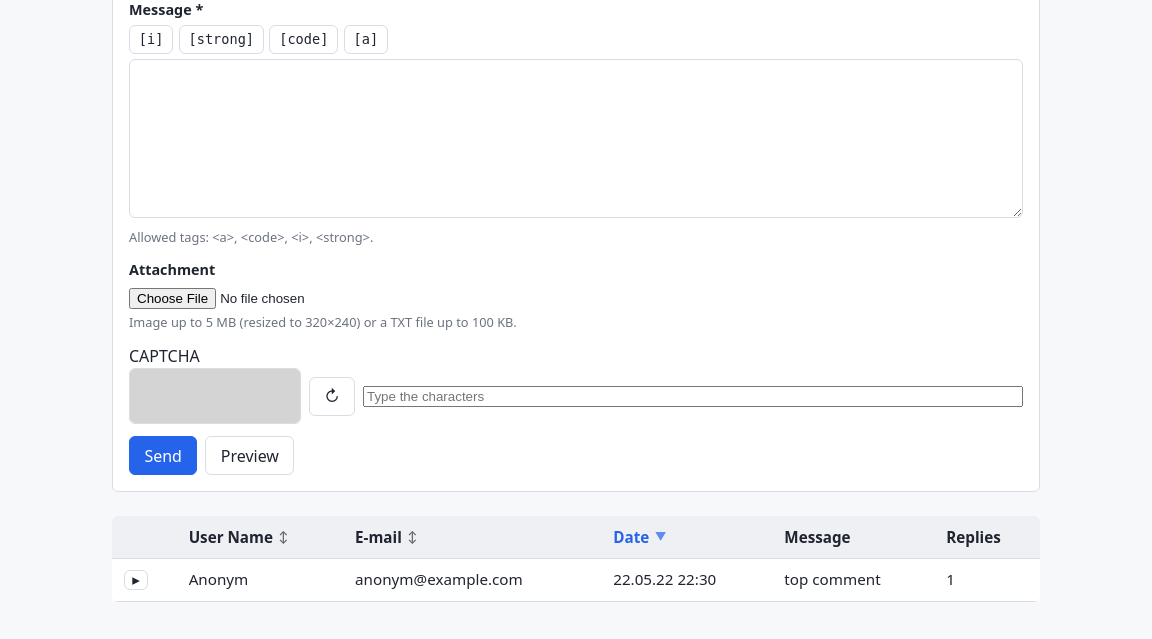
Test: App › switches the form into reply mode
(page scrolled)
What coordinates should you click on to do the following:
click the button with class "toggle"
I would click on:
 (136, 580)
Its box is [124, 570, 148, 590].
(page scrolled)
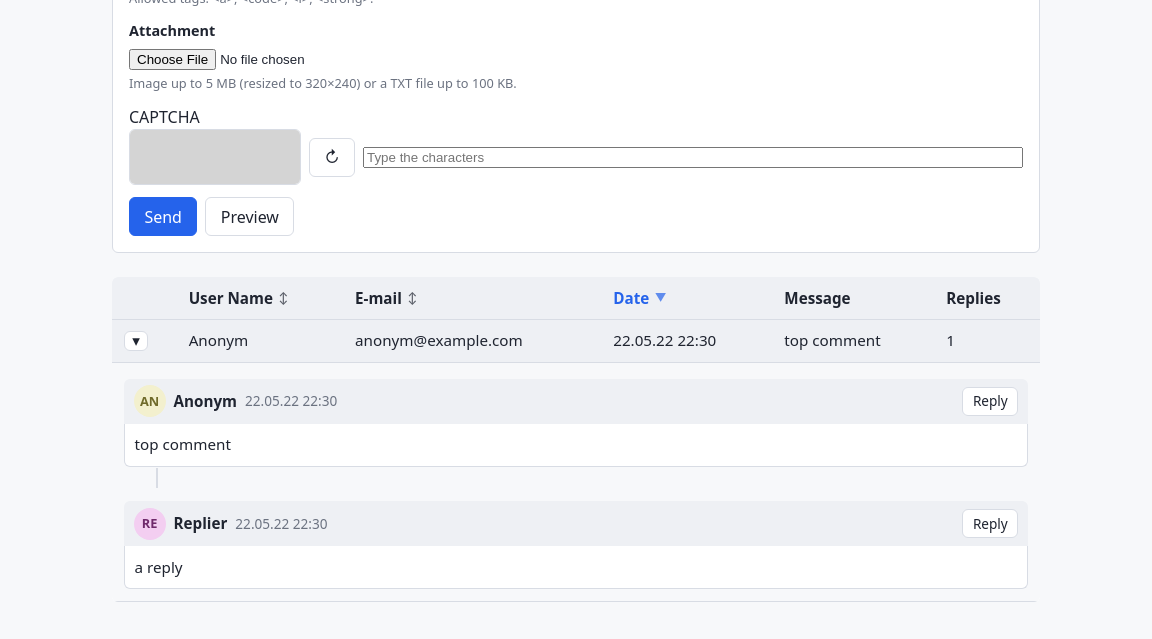
What coordinates should you click on to do the following:
click the button with class "reply-button" in the row of "Replier"
I would click on:
 (990, 524)
Its box is [962, 509, 1018, 538].
(page scrolled)
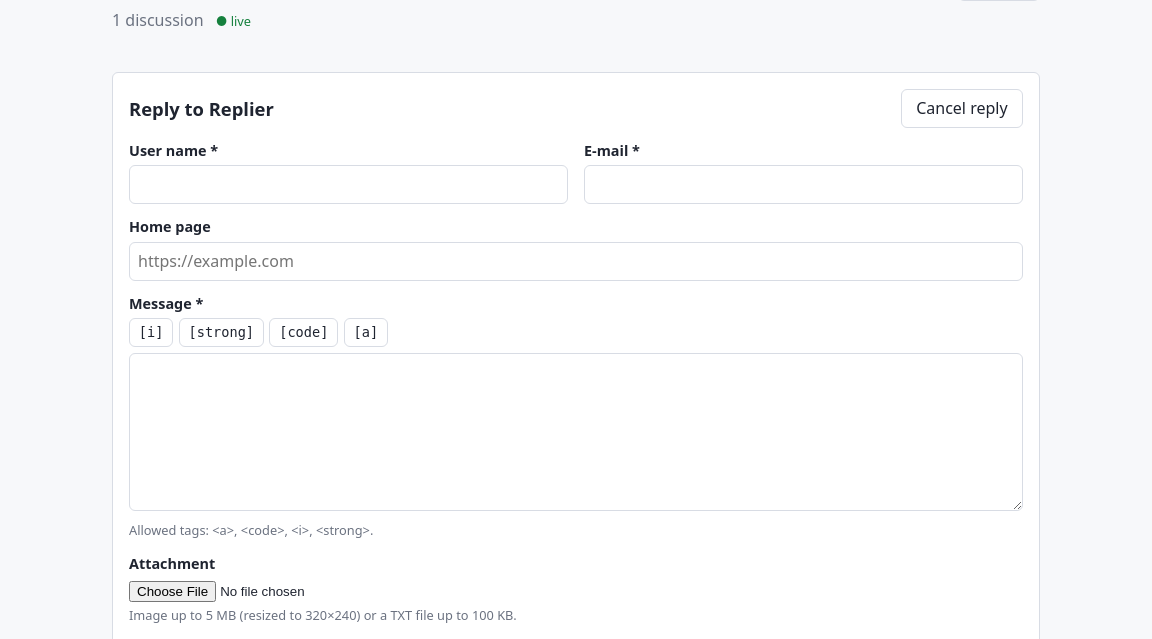
Expected: the heading "Reply to Replier" is shown, [129, 95, 274, 122]
